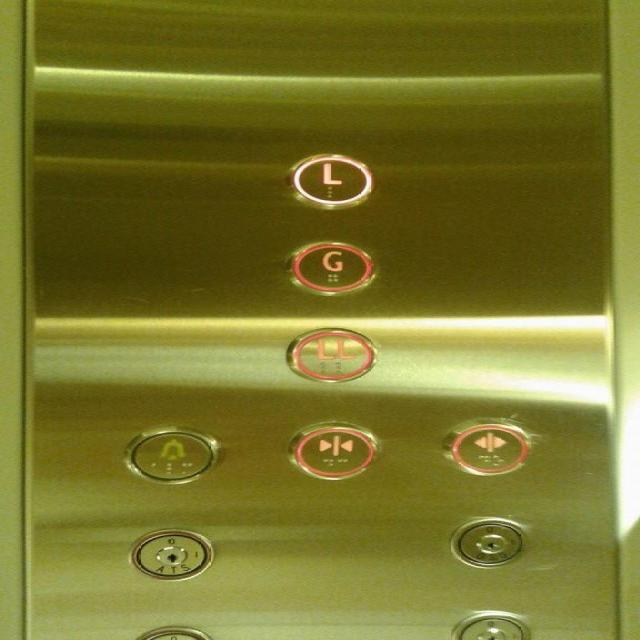G: (287, 239, 380, 298)
L: (284, 152, 374, 209)
LL: (284, 327, 376, 382)
alarm: (121, 427, 225, 484)
close: (282, 419, 380, 480)
keyhole: (450, 515, 532, 569), (127, 529, 213, 580), (446, 610, 538, 639)
open: (436, 416, 534, 476)
